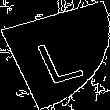L_N: (25, 26, 85, 84)
